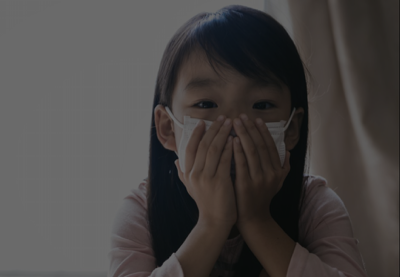with_mask: (168, 76, 292, 211)
